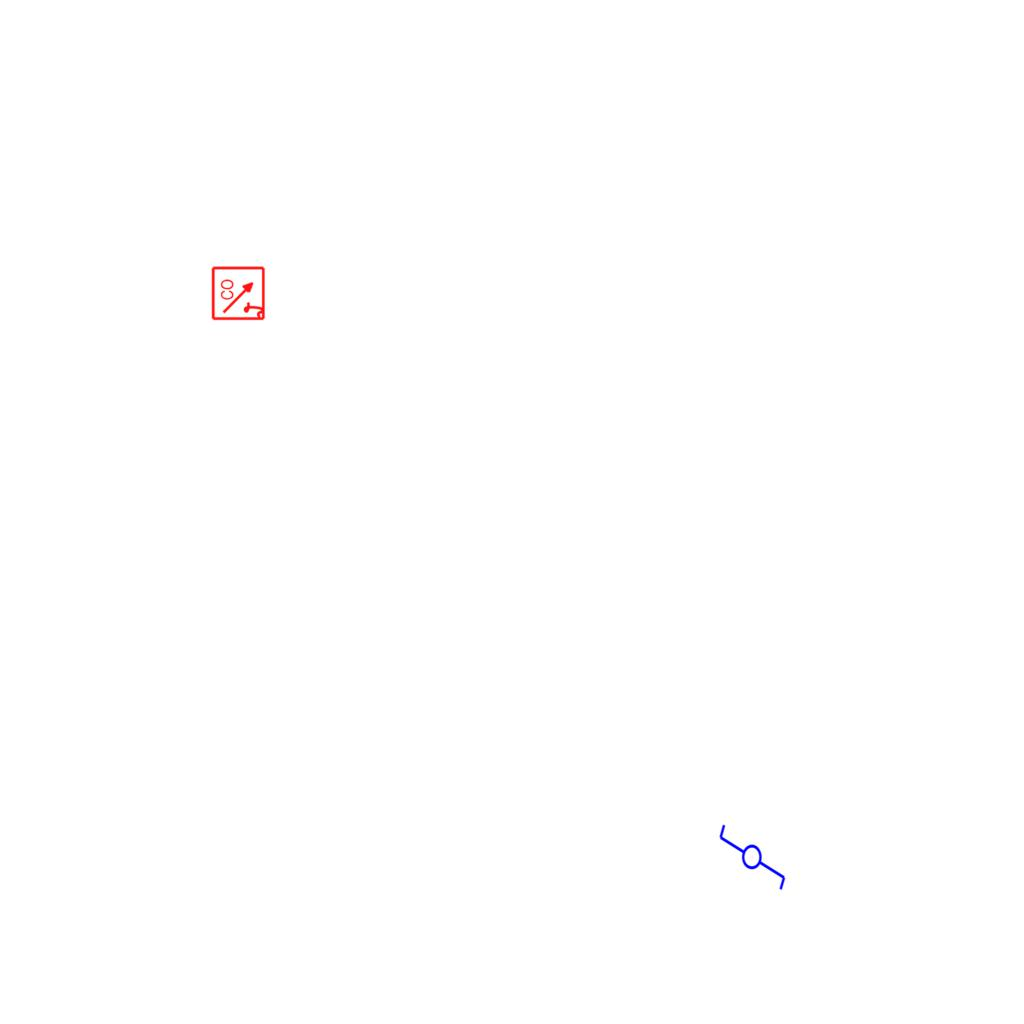ROA_Rauchmelder_optisch_mit_Signalgeber_(Sockelsirene): (211, 265, 267, 321)
Wechselschalter: (717, 814, 789, 892)
